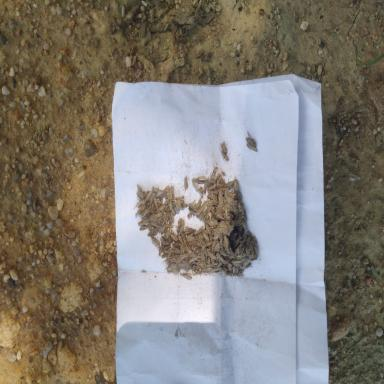pbw: (196, 200, 207, 216), (233, 240, 244, 254), (188, 200, 203, 210), (164, 222, 172, 240), (215, 252, 226, 264), (192, 177, 201, 191), (151, 235, 160, 249), (140, 210, 150, 222), (147, 227, 159, 237), (232, 177, 239, 194), (135, 204, 144, 217), (137, 184, 145, 198), (210, 166, 218, 180), (180, 271, 192, 280), (170, 230, 179, 242), (207, 250, 216, 261), (152, 184, 163, 193), (145, 190, 154, 201), (158, 243, 165, 257), (240, 219, 248, 231), (212, 212, 222, 221), (224, 180, 234, 189), (177, 225, 185, 236), (169, 184, 174, 201), (139, 223, 151, 230), (166, 267, 180, 273), (184, 176, 190, 190), (184, 228, 196, 235), (244, 246, 251, 258), (202, 232, 210, 242), (167, 212, 173, 225), (170, 211, 176, 224), (171, 248, 182, 255), (209, 239, 216, 250), (153, 196, 158, 211), (207, 220, 219, 226), (196, 176, 208, 182), (184, 246, 193, 254), (186, 210, 194, 219), (138, 219, 148, 226), (159, 235, 166, 245), (160, 250, 168, 258), (164, 222, 174, 228), (180, 254, 190, 260), (155, 191, 163, 198), (208, 184, 216, 191), (185, 236, 196, 241), (202, 267, 213, 272), (170, 207, 176, 216), (193, 229, 203, 234), (159, 204, 166, 211), (188, 258, 196, 264), (160, 225, 166, 233), (232, 264, 236, 273), (232, 261, 243, 264), (164, 246, 172, 250), (207, 256, 210, 264), (236, 266, 239, 273), (206, 243, 212, 246), (166, 243, 171, 245)
